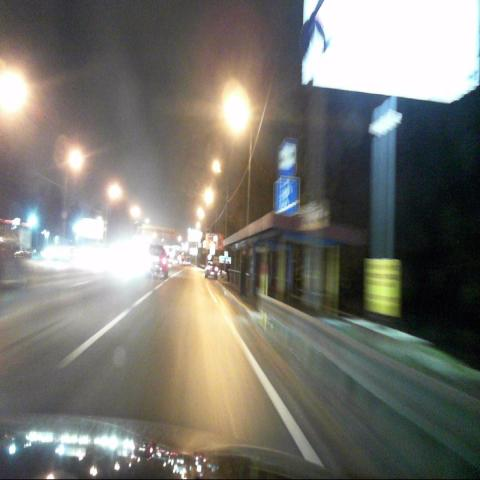6_6: (280, 177, 300, 215)
